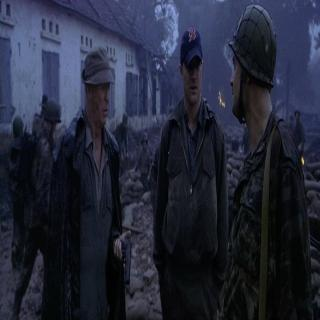gun: (114, 233, 132, 287)
